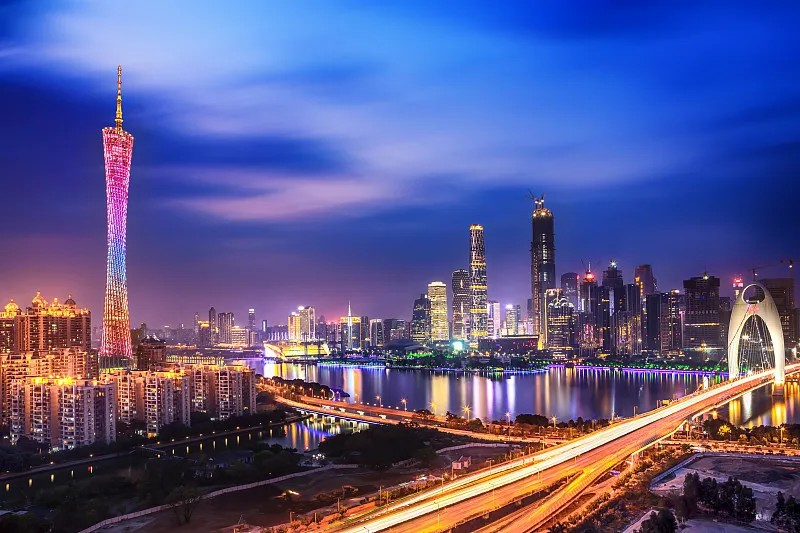Canton: (98, 64, 133, 364)
